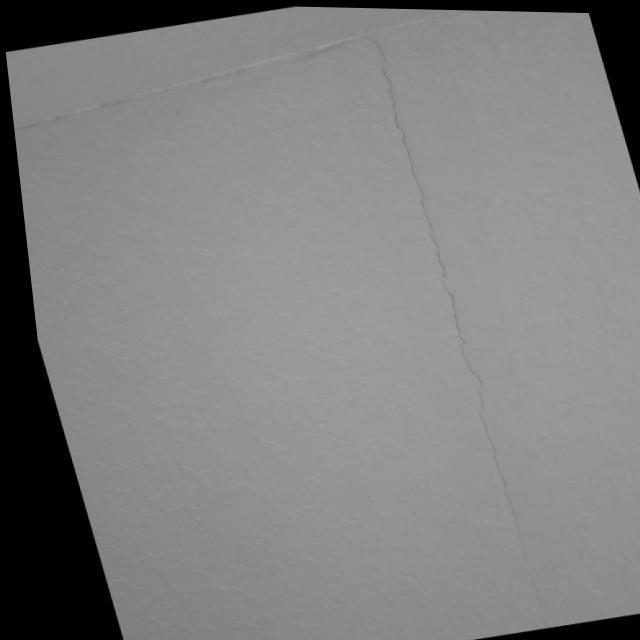Crack: (364, 40, 567, 611)
